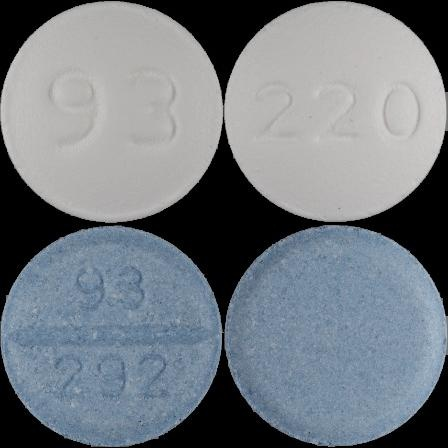0093-0220: (0, 0, 224, 224)
